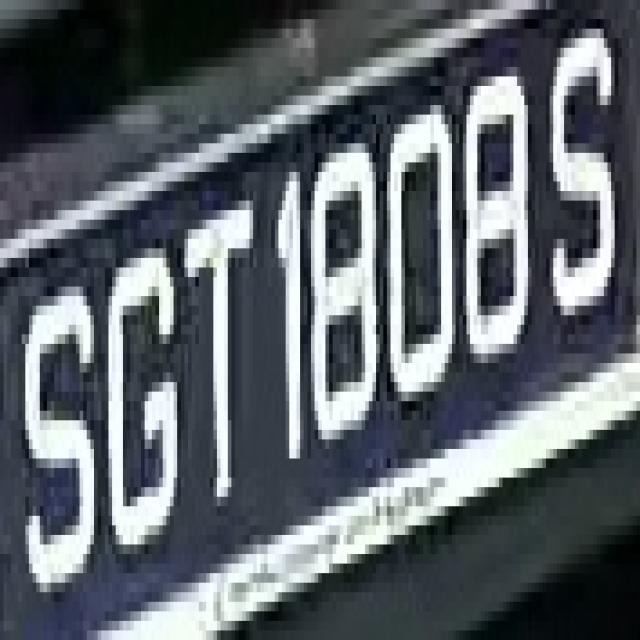0: (376, 86, 466, 439)
1: (260, 143, 318, 487)
8: (293, 124, 390, 535), (460, 67, 542, 420)
G: (94, 229, 188, 583)
S: (7, 277, 98, 583), (550, 29, 626, 372)
T: (174, 191, 268, 545)
